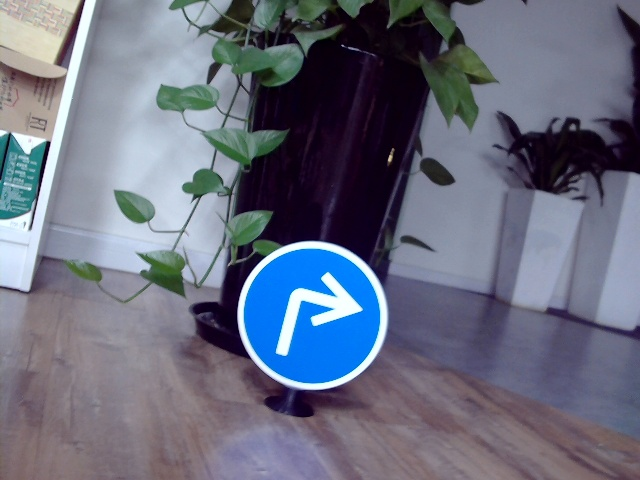turn_right: (270, 265, 364, 357)
